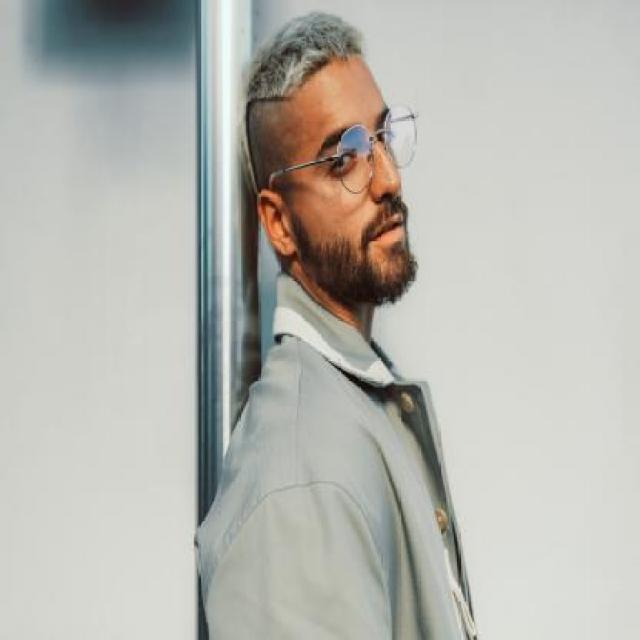glasses: (310, 100, 428, 202)
